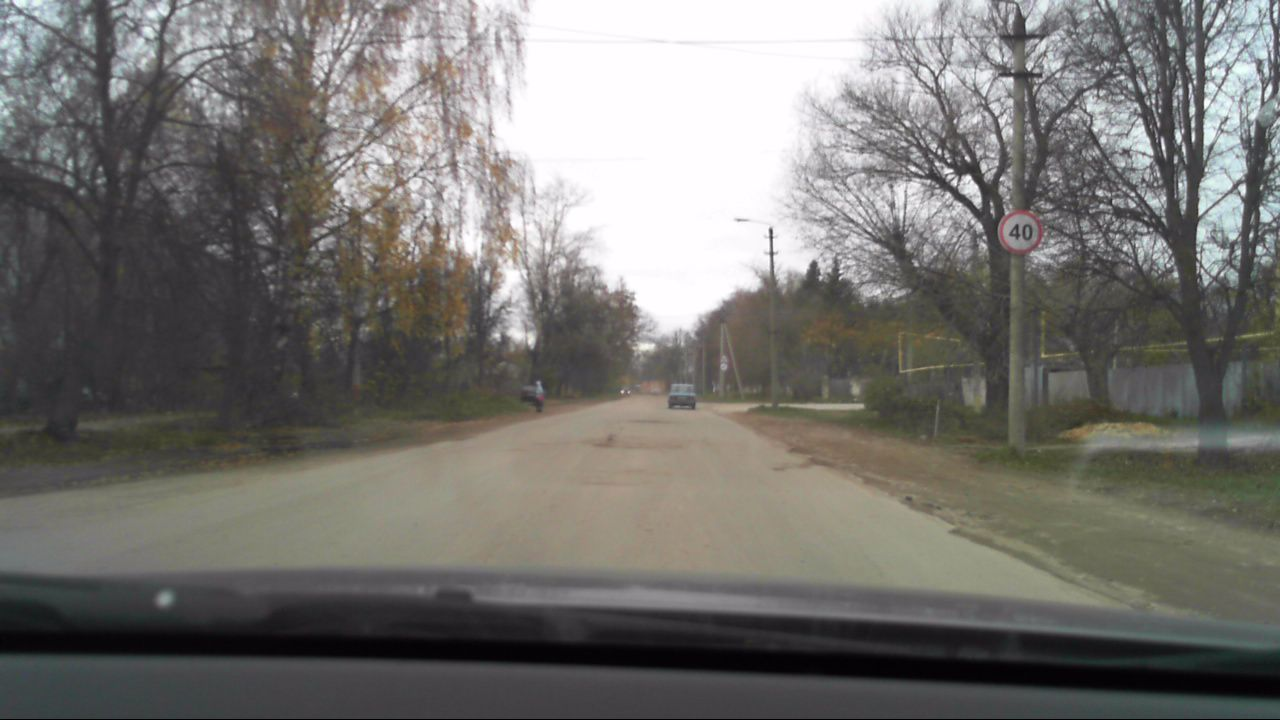speed_warning_40: (995, 207, 1043, 257)
